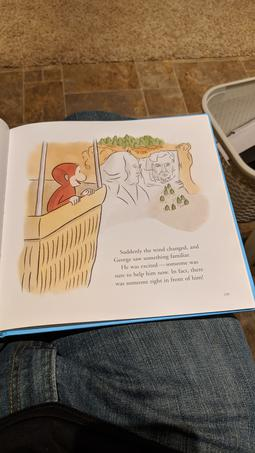text block: (104, 243, 211, 287)
